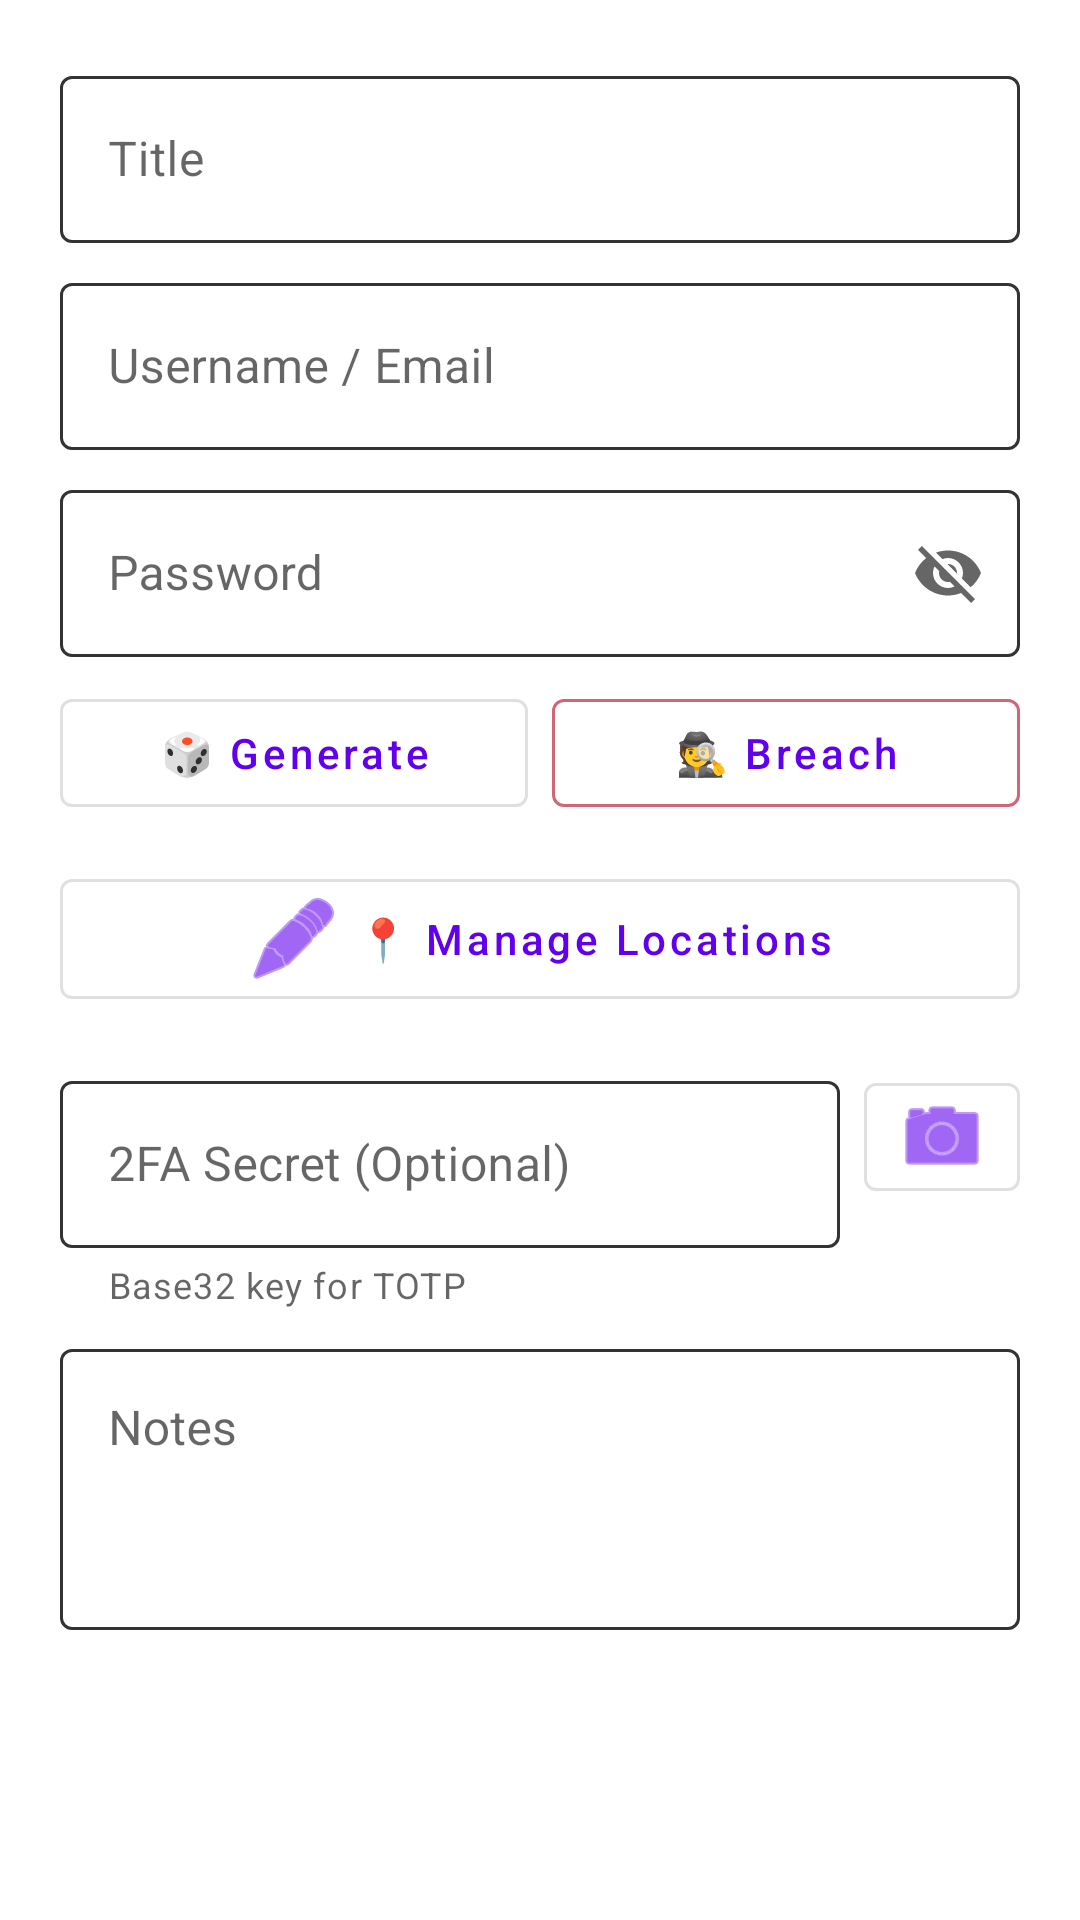

Named icons in this screenshot (1080w x 1920h) and their centers, (x=x, y=y):
camera: (x=942, y=1137)
